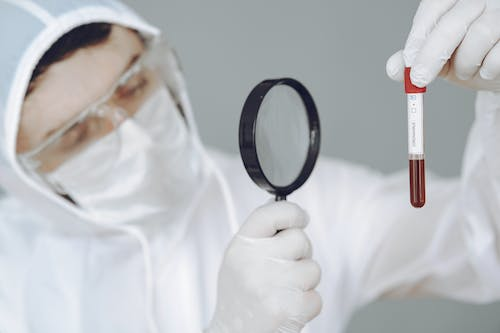blood: (408, 157, 427, 209)
